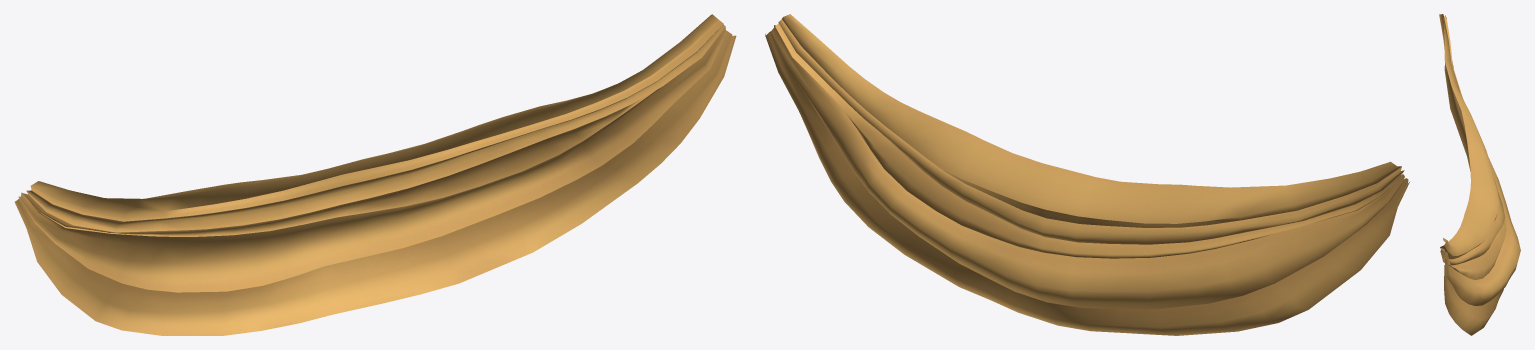
File: CurtainHorizontal.fbx
3 renders of one model, left to right at view 1: azimuth 30°, elevation 25°; view 2: azimuth 150°, elevation 25°; view 3: azimuth 270°, elevation 25°, orthographic. The views are drawn at different scales.
Visible parts, largest first — view 1: CurtainHorizontal; view 2: CurtainHorizontal; view 3: CurtainHorizontal.
Boxes of the visible parts, left/top/right/bottom form: CurtainHorizontal: left=14, top=14, right=736, bottom=335; CurtainHorizontal: left=765, top=14, right=1409, bottom=335; CurtainHorizontal: left=1439, top=14, right=1520, bottom=335.
Size of the model in its own units: 18.73 by 5.96 by 2.69.
